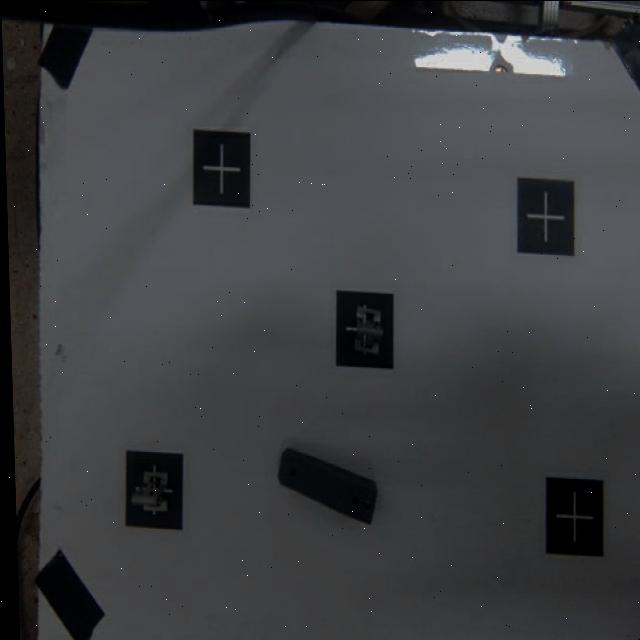pick3: (334, 294, 394, 364)
pick5: (122, 452, 183, 528)
